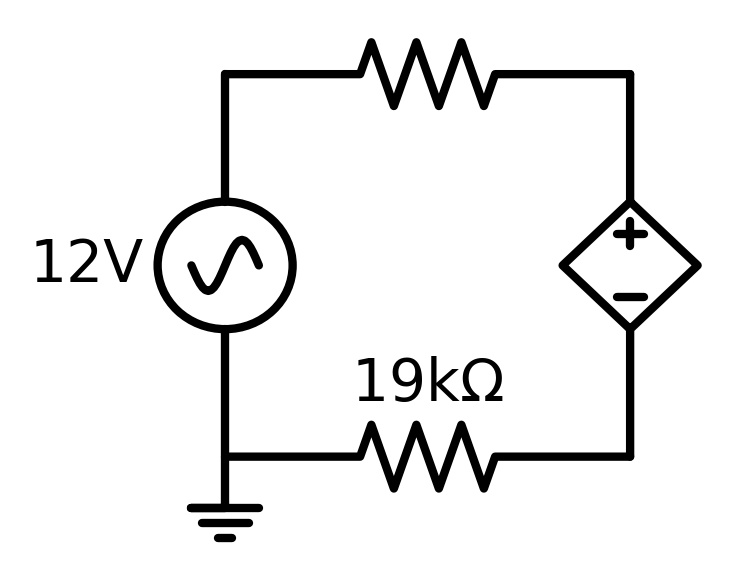ground: (177, 487, 269, 555)
resistor: (347, 28, 508, 120), (356, 412, 505, 501)
sourceac: (152, 192, 301, 336)
sourcevc: (551, 195, 708, 338)
